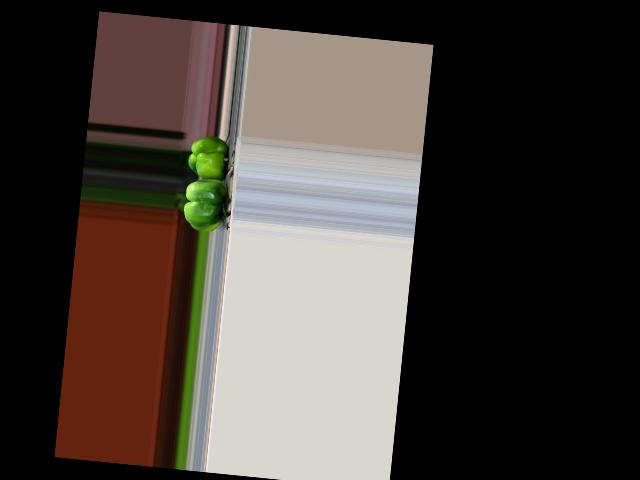bell_pepper: (185, 132, 233, 182)
